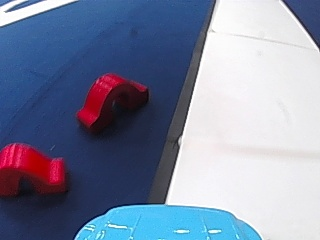bridge: (73, 69, 152, 136), (1, 139, 68, 198)
